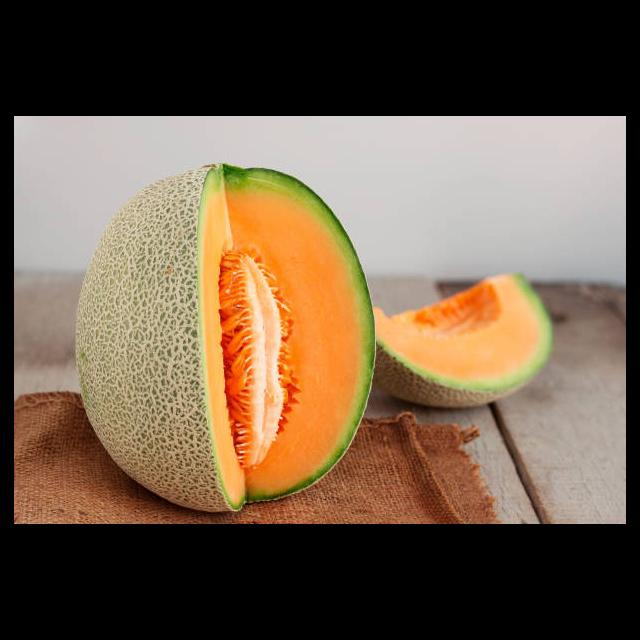Hami Melon: (76, 162, 377, 511), (376, 271, 554, 409)
